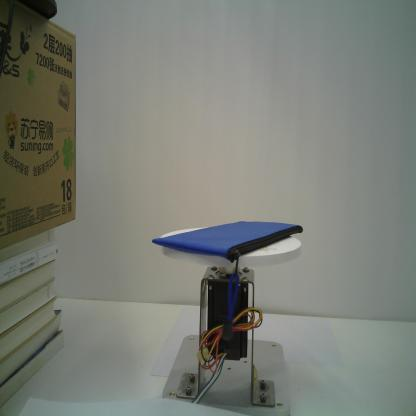Stationery: (152, 218, 303, 341)
